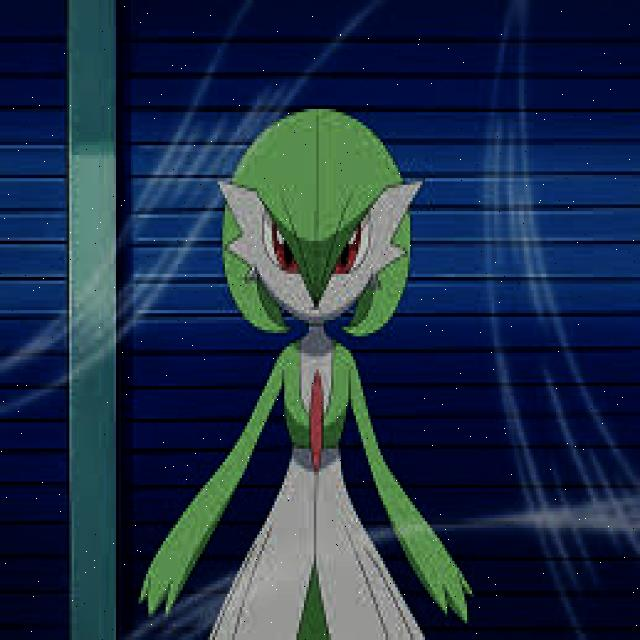gardevoir: (139, 105, 476, 640)
